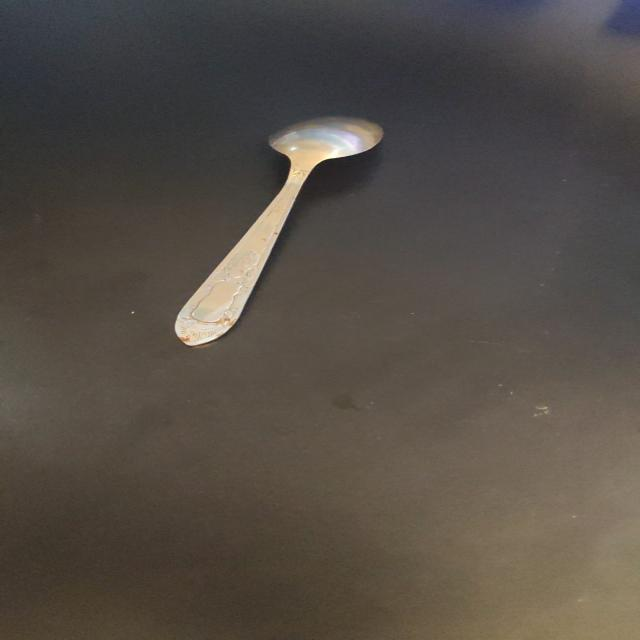plastic utensil: (176, 116, 382, 346)
